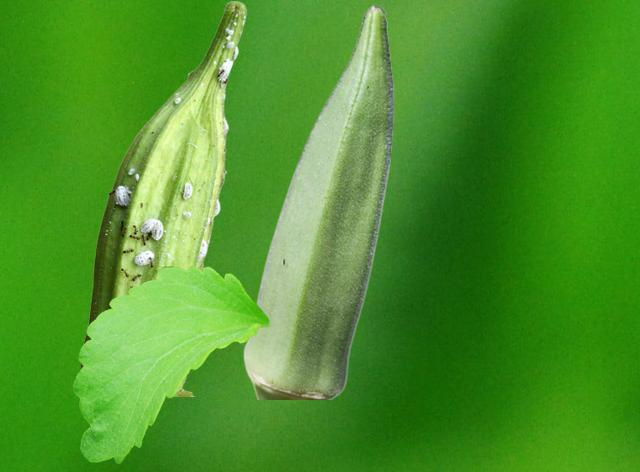okra: (80, 1, 246, 395), (243, 4, 393, 398)
